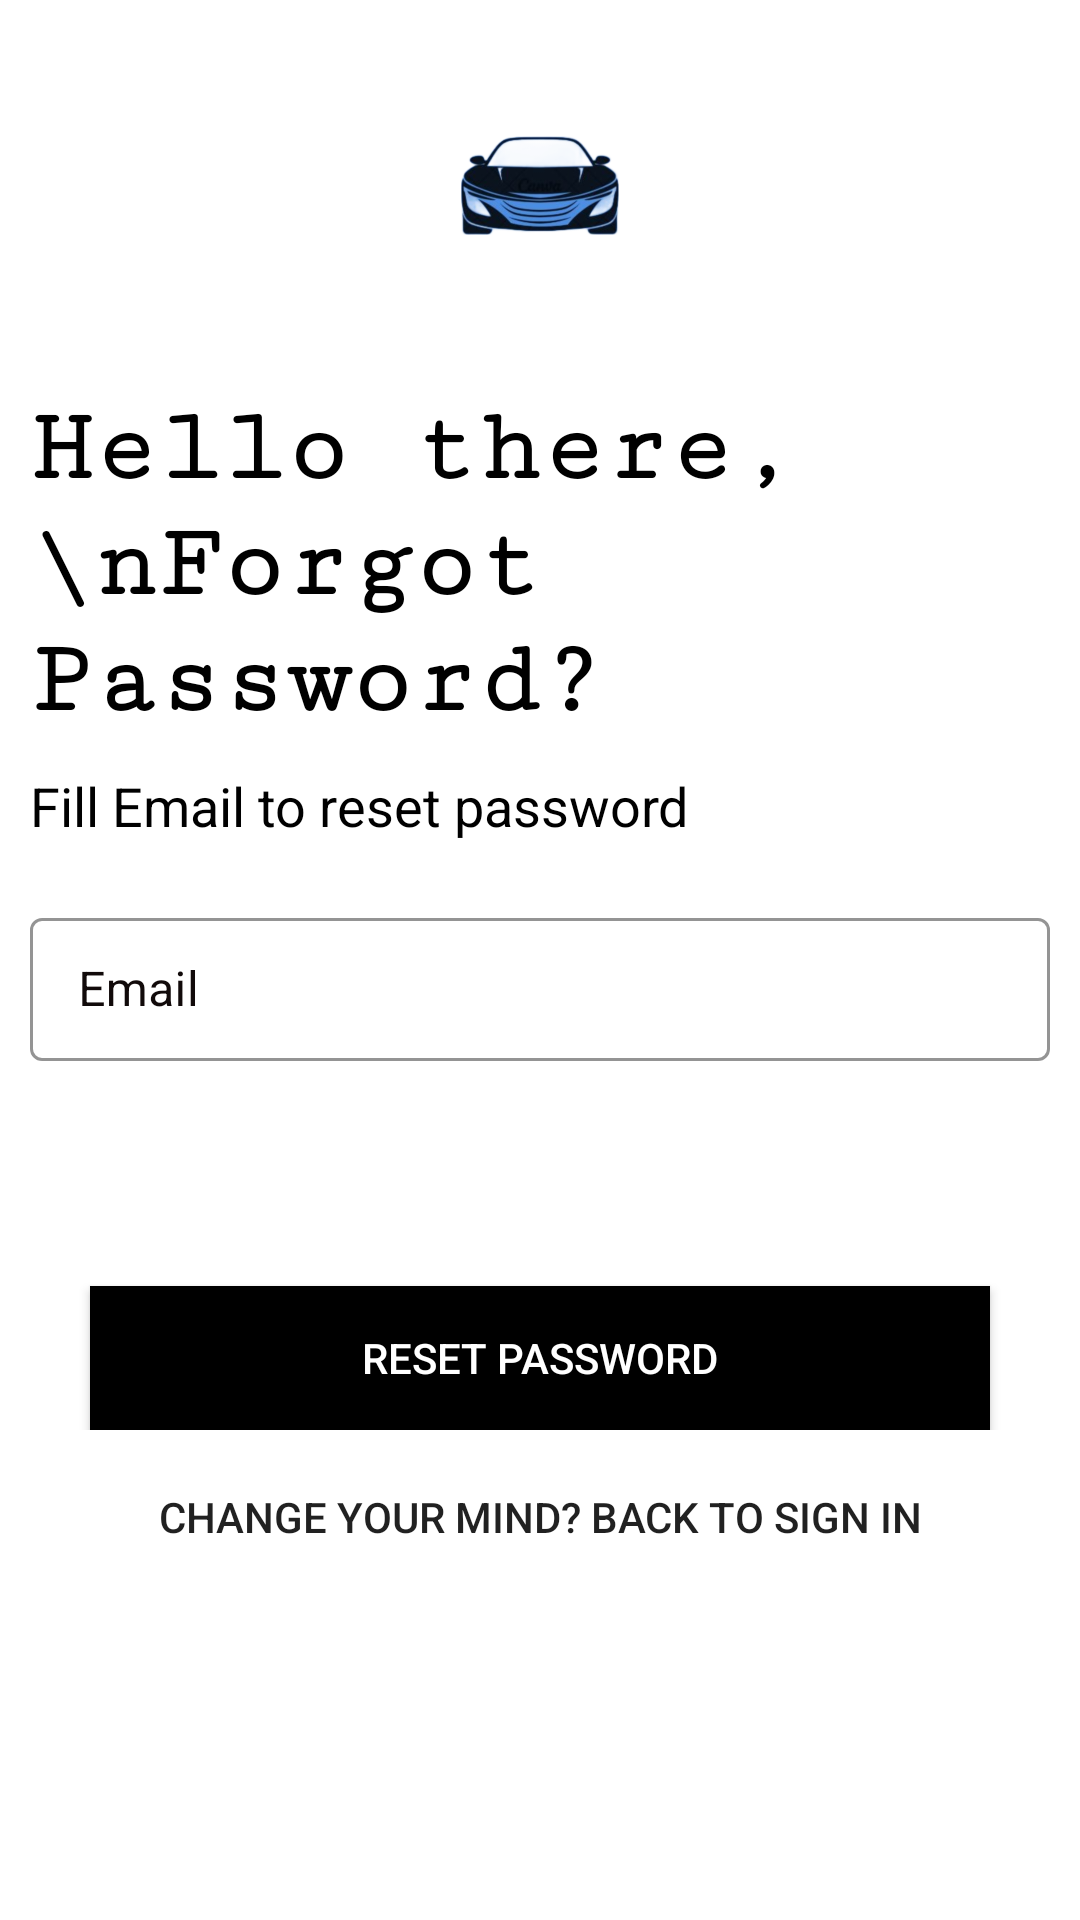

Screen size 1080*1920. Icon name, then its box in pixels as (x1, y1, x2, y2):
car: (461, 136, 619, 235)
